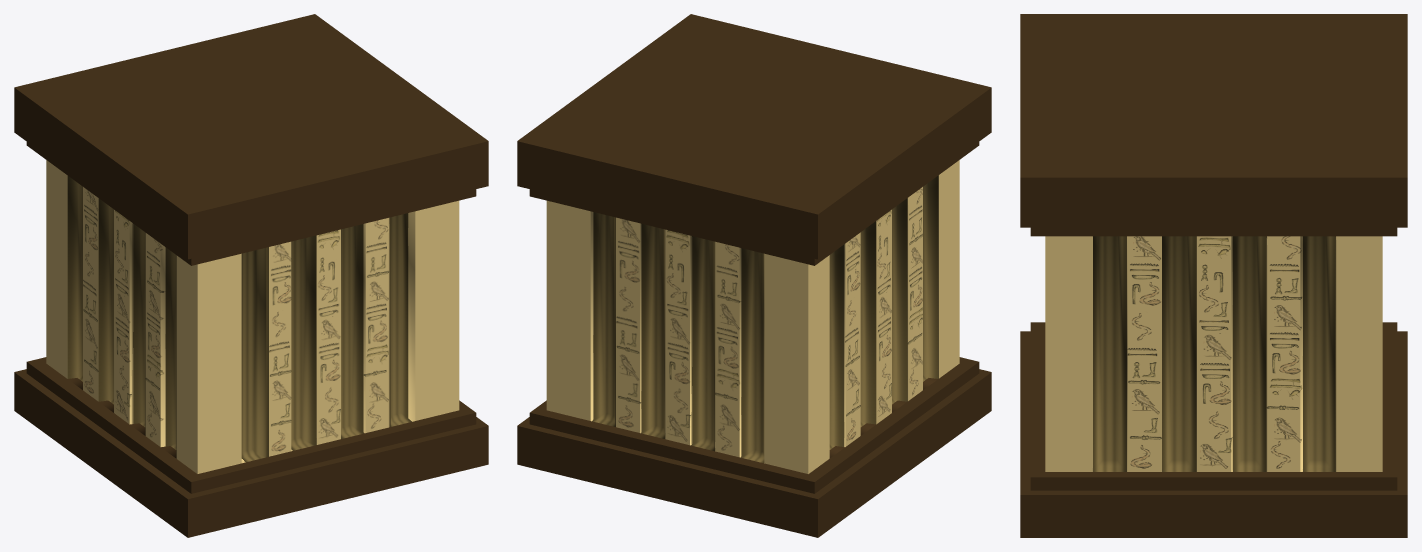
The model's file is SM_TurretBase.FBX.
3 renders of one model, left to right at view 1: azimuth 30°, elevation 25°; view 2: azimuth 150°, elevation 25°; view 3: azimuth 270°, elevation 25°, orthographic. The views are drawn at different scales.
Parts seen in each view (by area): view 1: BirdBase003; view 2: BirdBase003; view 3: BirdBase003.
Part boxes in pixels (x1,y1,x2,y2): BirdBase003: (14,14,488,537); BirdBase003: (517,14,991,537); BirdBase003: (1020,14,1407,537).
Size of the model in its own units: 78.74 by 80.86 by 78.74.
